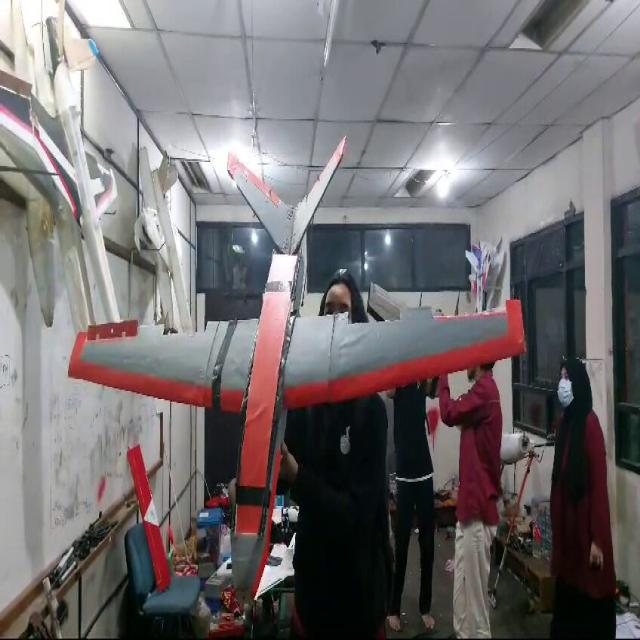plane: (67, 132, 527, 604)
